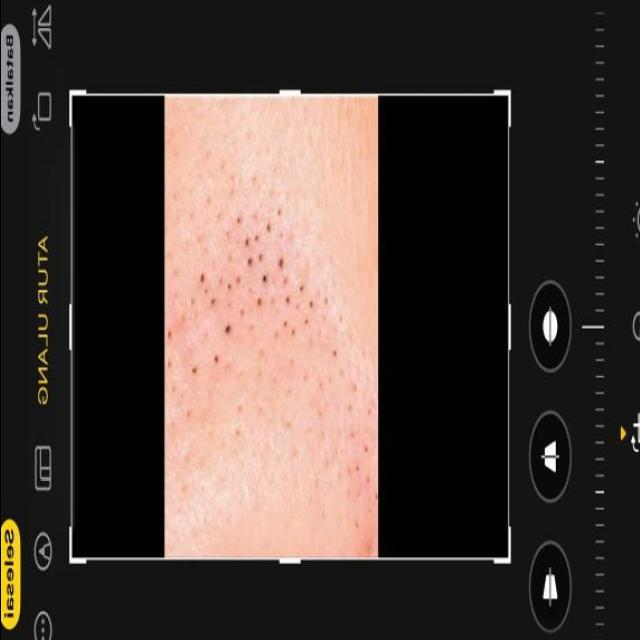blackhead: (171, 190, 343, 405)
